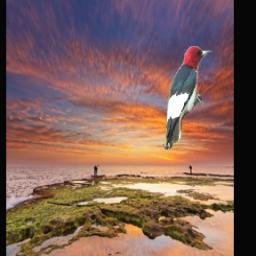Woodpecker: (162, 45, 212, 149)
